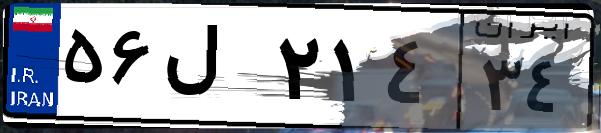1: (330, 28, 385, 110)
2: (270, 28, 330, 110)
3: (475, 38, 525, 113)
4: (385, 28, 445, 110), (525, 38, 570, 115)
5: (57, 26, 110, 100)
6: (110, 28, 158, 98)
ل: (158, 20, 270, 120)
